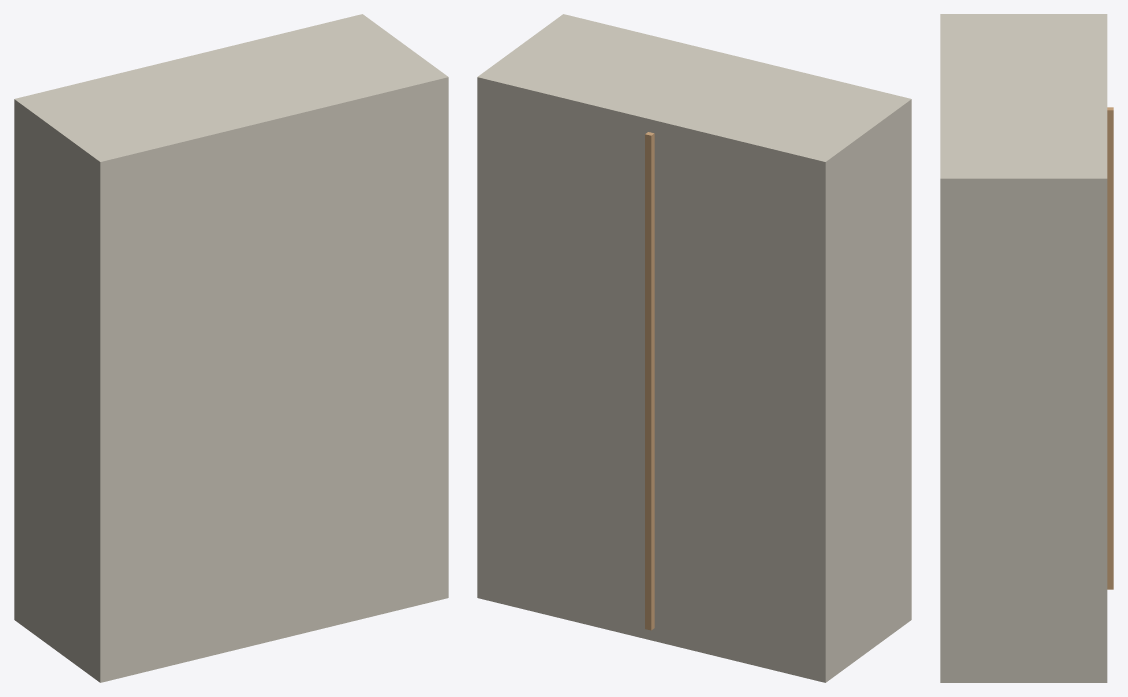
The model's file is wardrobe.glb.
3 views of the same model, side by side, from view 1: azimuth 30°, elevation 25°; view 2: azimuth 150°, elevation 25°; view 3: azimuth 270°, elevation 25° (orthographic). The views are drawn at different scales.
Size of the model in its own units: 1.4 by 2 by 0.6225.
